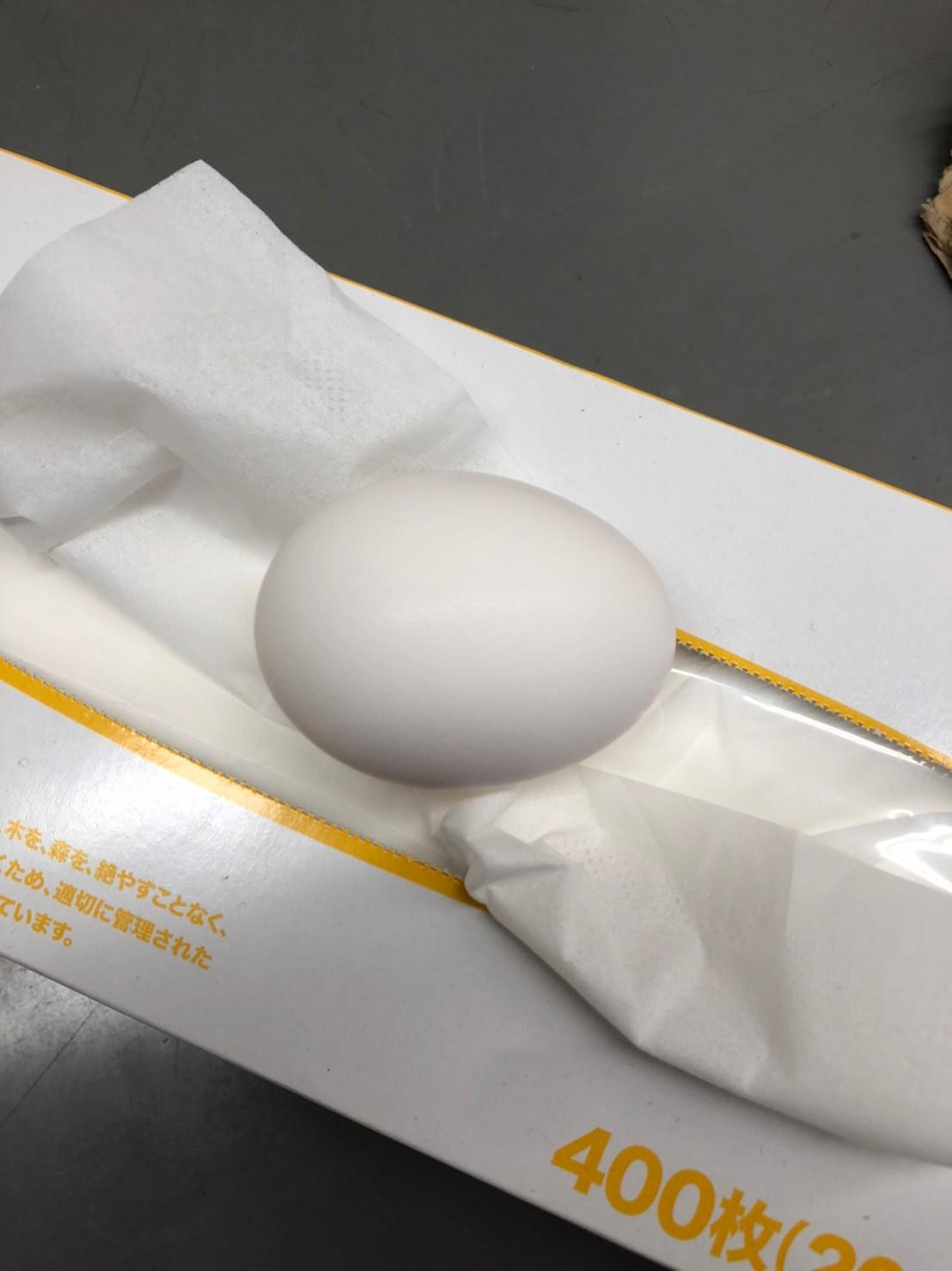egg: (247, 463, 687, 793)
